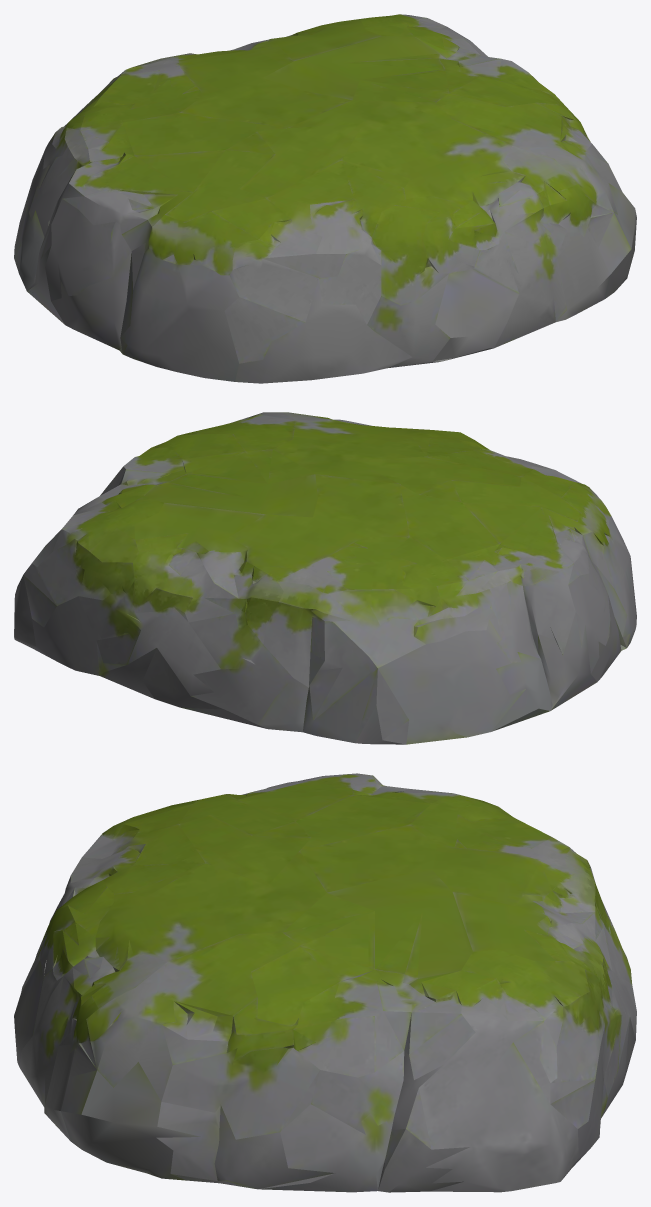
The model's file is nature-rock-moss.glb.
The picture shows the model from 3 angles, top to bottom: view 1: azimuth 30°, elevation 25°; view 2: azimuth 150°, elevation 25°; view 3: azimuth 270°, elevation 25°; orthographic projection. The views are drawn at different scales.
Visible parts, largest first — view 1: nature-rock-moss-fit; view 2: nature-rock-moss-fit; view 3: nature-rock-moss-fit.
Boxes of the visible parts, x1,y1,x2,y2 form: nature-rock-moss-fit: (14,14,636,383); nature-rock-moss-fit: (14,412,636,744); nature-rock-moss-fit: (14,773,636,1192).
Bounding box in the file's own units: 2.45 × 0.665 × 2.19.
Materials: 1 (1 with a texture image).
